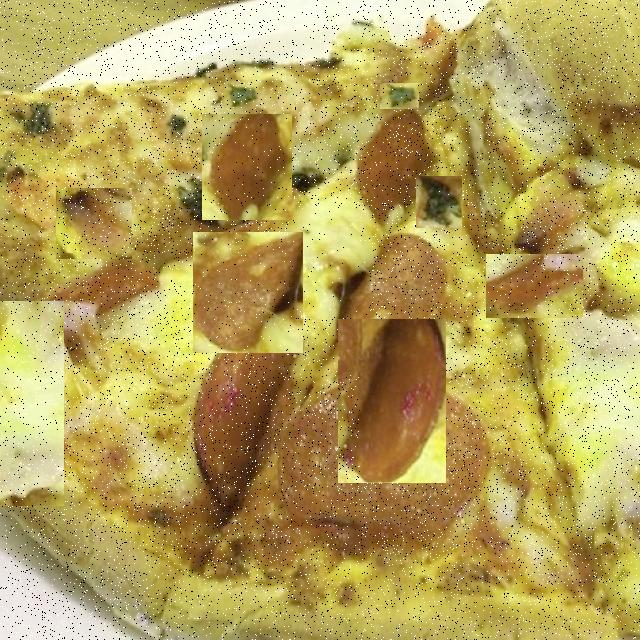Basil: (416, 176, 462, 228), (580, 94, 621, 144), (380, 83, 419, 109)
Cheese: (0, 301, 64, 506), (289, 210, 369, 316)
Ham: (56, 188, 132, 259)
Pepperoni: (163, 373, 360, 546), (338, 319, 446, 483), (193, 232, 303, 353), (202, 114, 292, 220), (486, 254, 583, 318)
Pizza: (0, 0, 640, 640)
